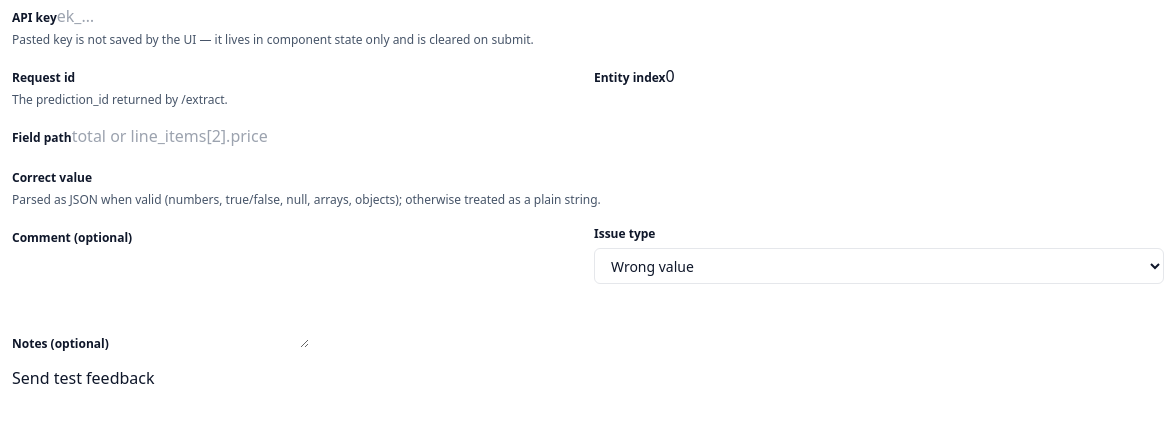
Scenario: FeedbackTestForm — input validation › shows an entity-index-specific error (not the request_id message) on bad entity_index
Type "ek_abc" into the password field labelled "API key" at {"x": 172, "y": 16}, box [57,4,288,28]
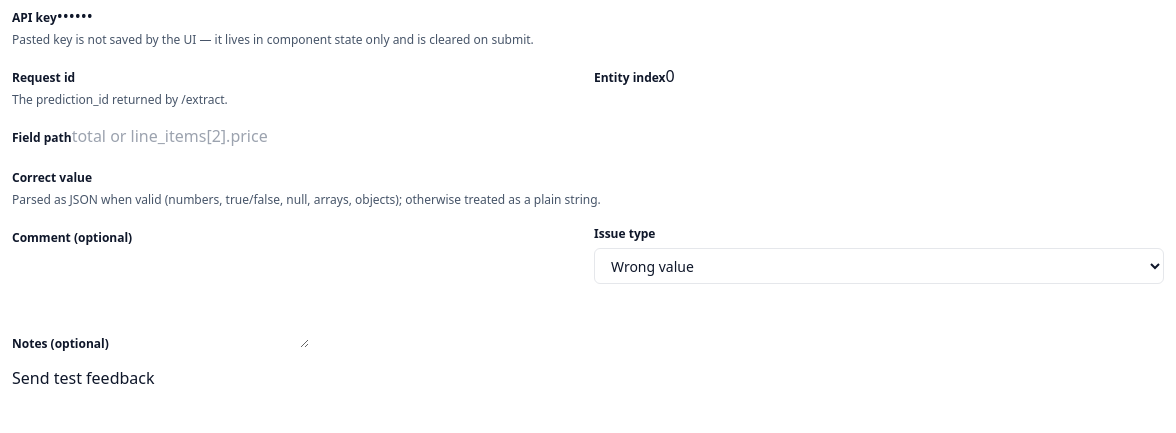
Type "1" into the field labelled "Request id" at {"x": 191, "y": 76}, box [75,64,306,88]
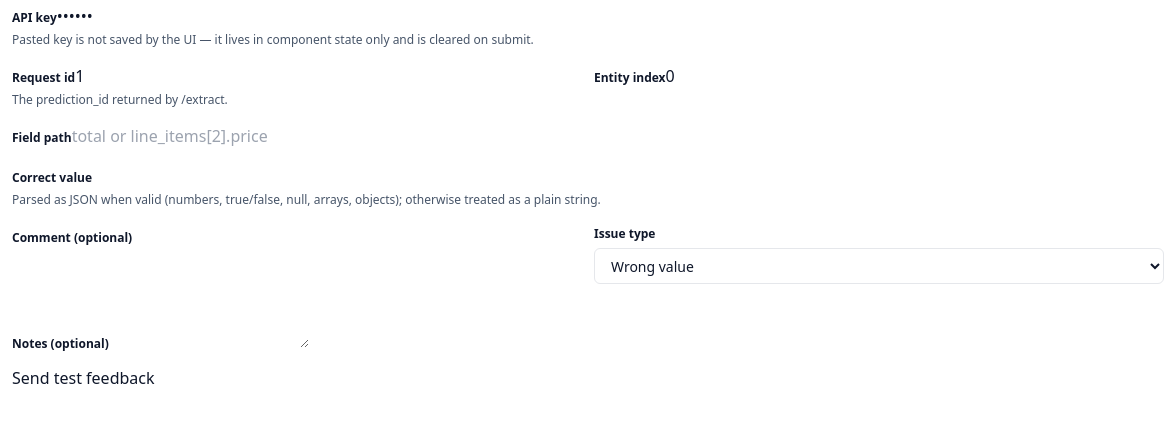
Replace the text in the field labelled "Entity index" with "-1" at {"x": 781, "y": 76}, box [666,64,897,88]
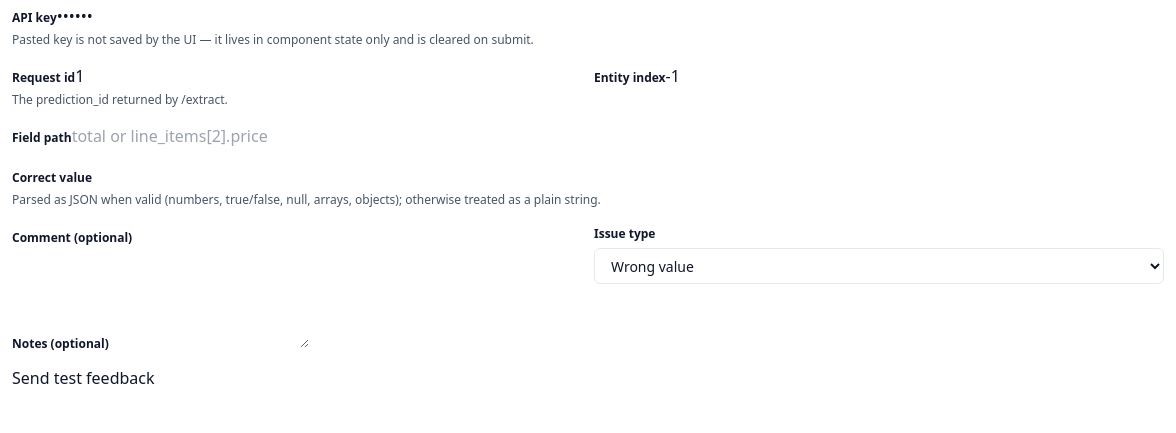
Type "total" into the field labelled "Field path" at {"x": 187, "y": 136}, box [72,124,303,148]
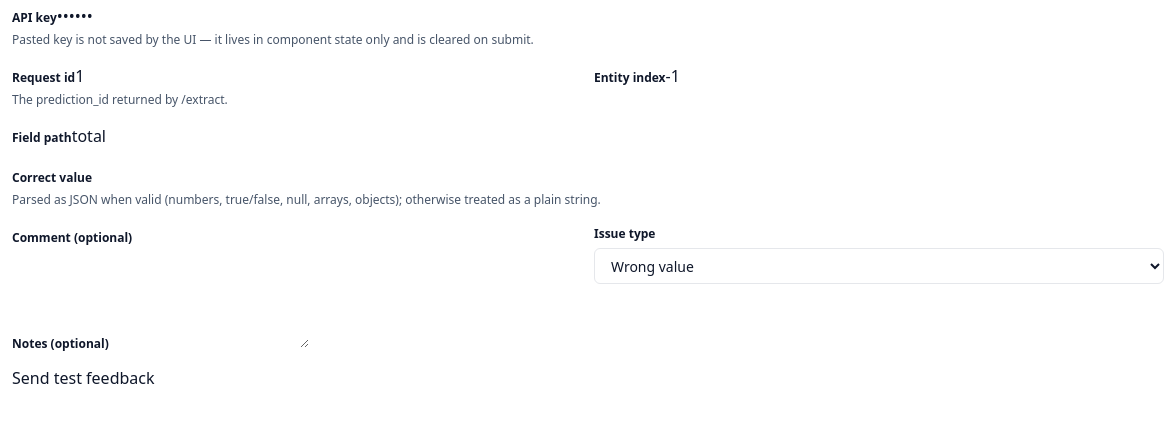
Type "1234" into the field labelled "Correct value" at {"x": 208, "y": 176}, box [92,164,323,188]
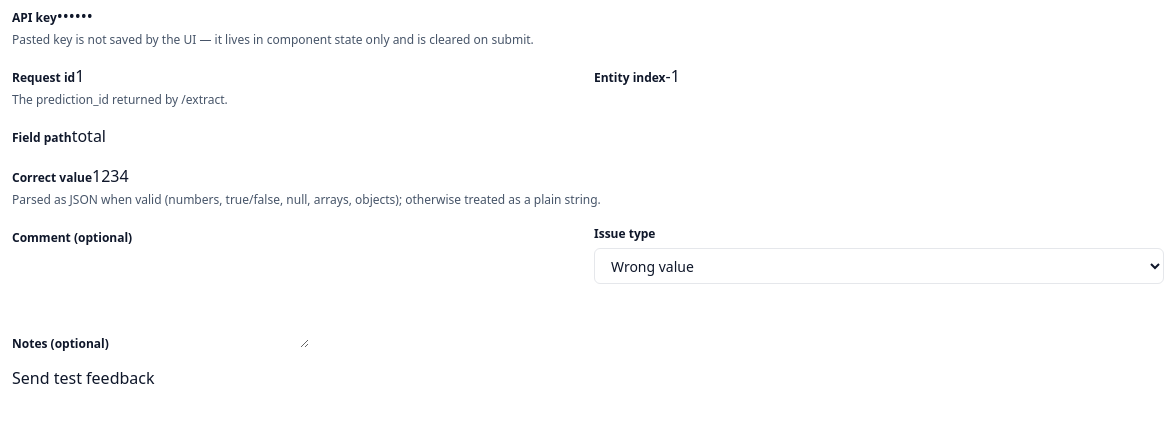
Click the button "Send test feedback" at {"x": 83, "y": 378}, box [12,366,154,390]
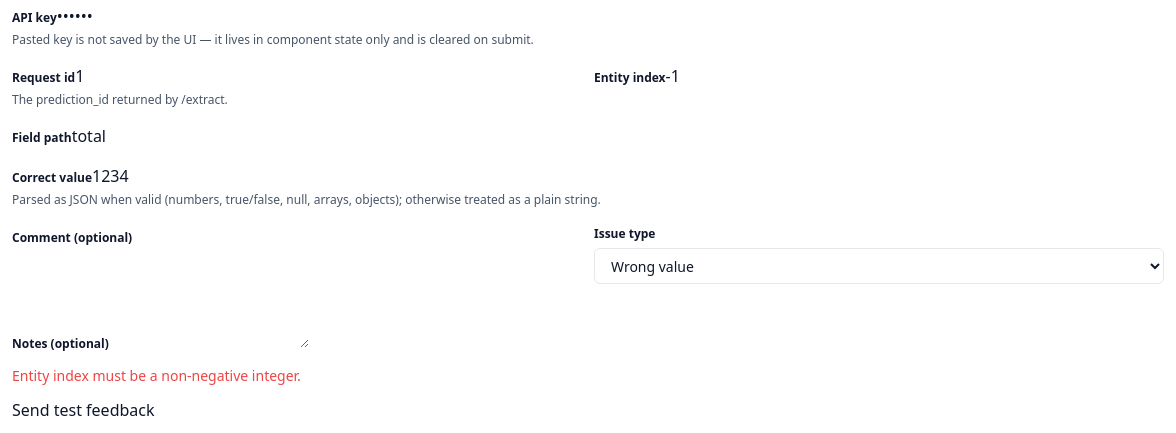
Now the message shows "Entity index must be a non-negative integer", box [12,366,301,385]
